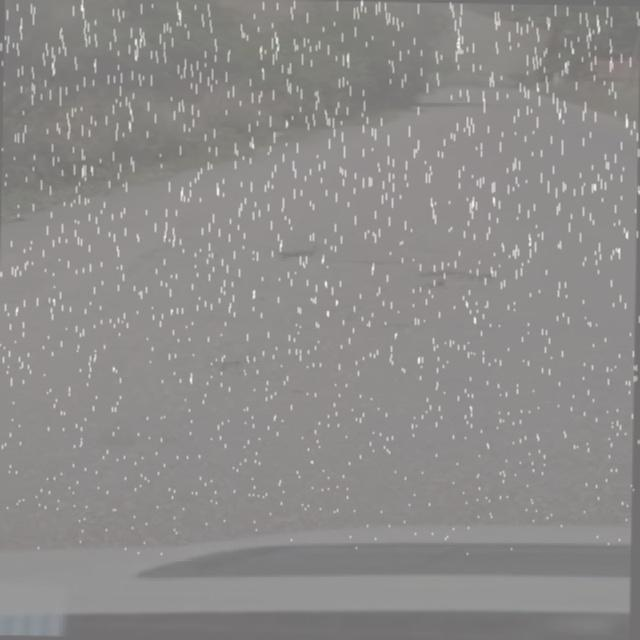Pothole: (414, 262, 494, 301), (272, 248, 338, 261), (416, 99, 488, 110)
